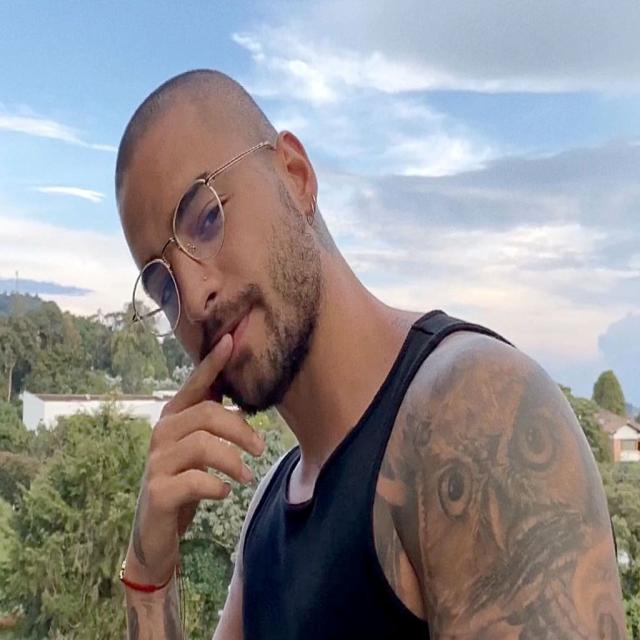beard: (196, 216, 323, 411)
hair: (115, 69, 276, 199)
